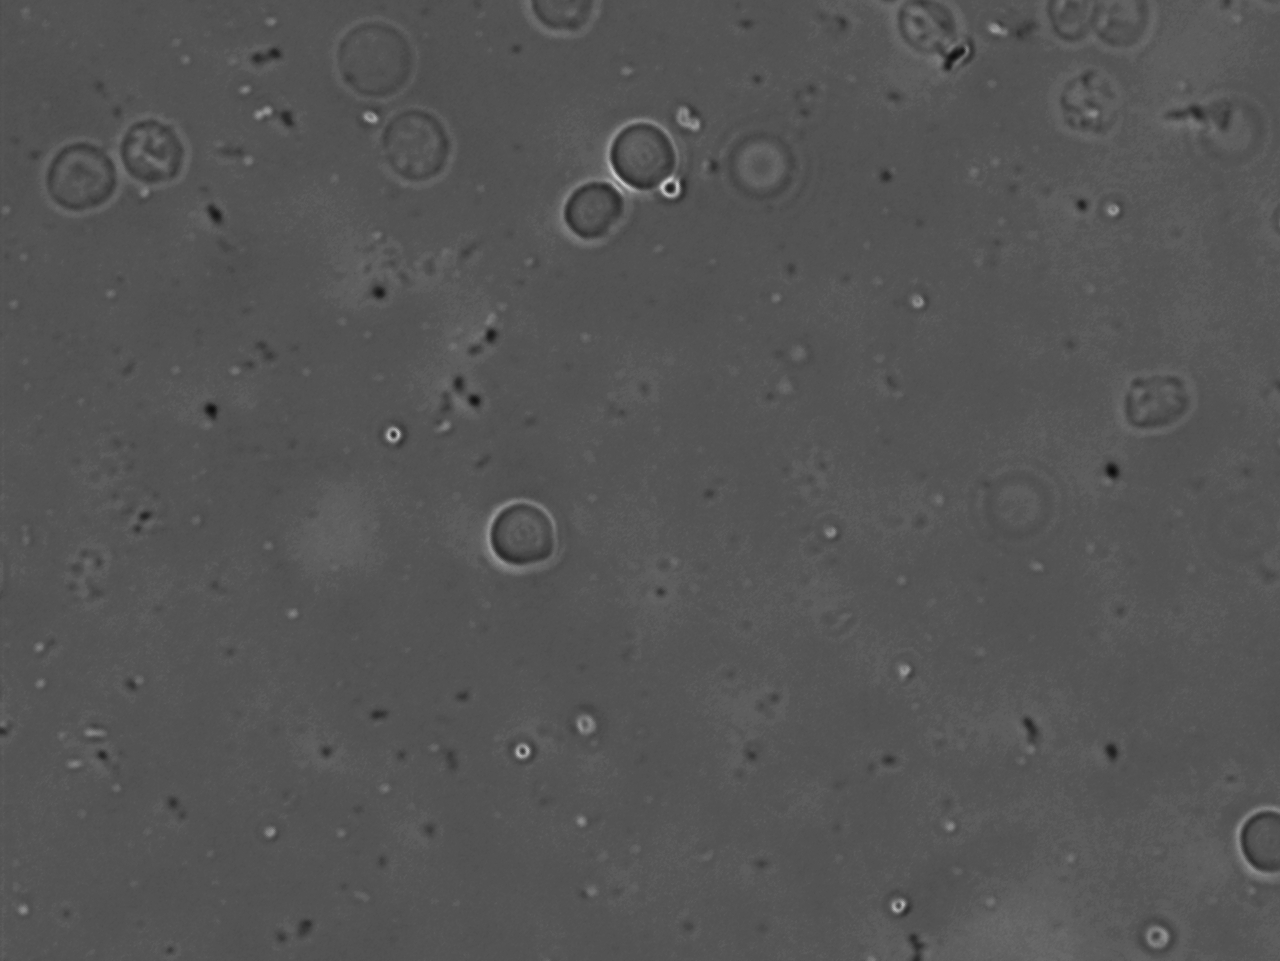depth:0: (469, 482, 573, 582), (593, 113, 699, 212), (108, 107, 210, 203), (35, 131, 132, 222), (543, 168, 629, 248), (1221, 798, 1280, 900)
